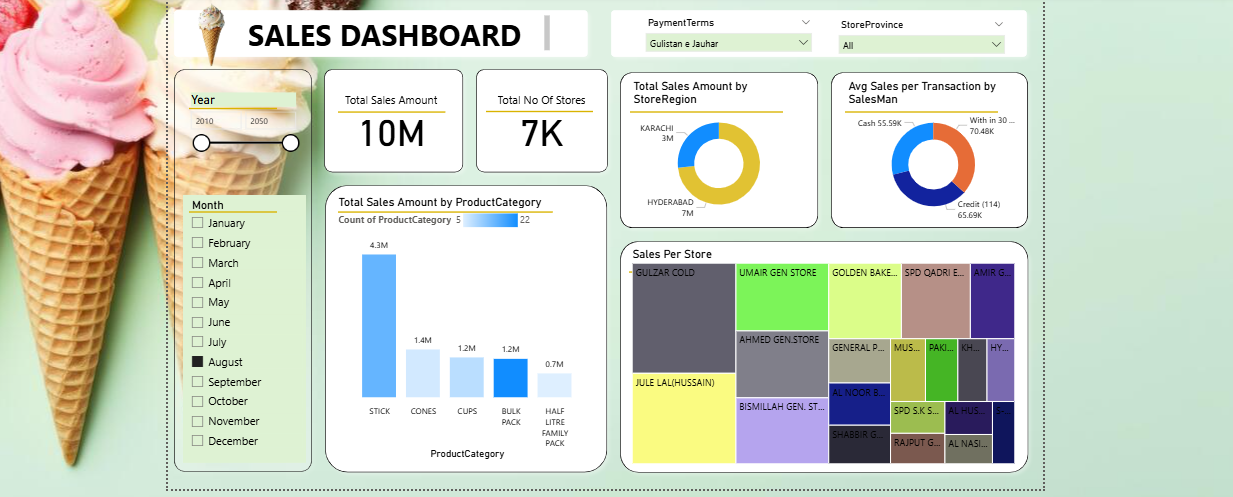

Layout of this report page (visuals, bound fields, positions):
{"tool":"powerbi","page":{"name":"Store","canvas":[1280,720],"ordinal":2},"visuals":[{"type":"shape","box":[0,10.8,623.1,86.2],"z":0},{"type":"shape","box":[640,10.8,626.2,86.2],"z":1000},{"type":"shape","box":[311.7,402.4,219.5,174.1],"z":2000},{"type":"shape","box":[221.5,266.2,430.8,438.5],"z":3000},{"type":"shape","box":[0,96.6,219.5,607.3],"z":4000},{"type":"shape","box":[220,96.9,221.5,169.2],"z":5000},{"type":"shape","box":[441.5,96.9,210.8,169.2],"z":6000},{"type":"shape","box":[652.3,347.7,615.4,356.9],"z":7000},{"type":"columnChart","fields":{"Category":["dim_product.ProductCategory"],"Y":["fact_sales.Total Sales Amount"]},"box":[244.6,289.2,378.5,392.3],"z":10000},{"type":"shape","box":[652.3,101.5,307.7,246.2],"z":11000},{"type":"shape","box":[961.5,101.5,306.2,246.2],"z":12000},{"type":"slicer","fields":{"Values":["dim_date.date.Variation.Date Hierarchy.Month"]},"box":[21.5,289.2,180,392.3],"z":13000},{"type":"slicer","fields":{"Values":["dim_date.date.Variation.Date Hierarchy.Year"]},"box":[20.5,134.6,180,153.7],"z":14000},{"type":"donutChart","fields":{"Category":["dim_store.StoreRegion"],"Y":["fact_sales.Total Sales Amount"]},"box":[675.4,120,260,209.2],"z":15000},{"type":"donutChart","fields":{"Y":["fact_sales.Avg Sales per Transaction"],"Category":["dim_dealer.SalesMan"]},"box":[990.8,120,258.5,212.3],"z":16000},{"type":"textbox","box":[112.7,22,450.7,64.4],"z":18000},{"type":"shape","box":[30.7,288.3,128.8,52.7],"z":19000},{"type":"shape","box":[30.7,142,128.8,42.4],"z":20000},{"type":"shape","box":[248.6,288.6,314.3,52.9],"z":21000},{"type":"shape","box":[674.3,375.7,314.3,52.9],"z":22000},{"type":"shape","box":[248.6,141.4,157.1,52.9],"z":23000},{"type":"shape","box":[465.7,141.4,138.6,52.9],"z":24000},{"type":"shape","box":[676.1,142,223.9,52.7],"z":25000},{"type":"shape","box":[990.7,142,223.9,52.7],"z":26000},{"type":"slicer","fields":{"Values":["Ikp_payment.PaymentTerms"]},"box":[689.3,24.9,263.4,55.6],"z":27000},{"type":"slicer","fields":{"Values":["dim_store.StoreProvince"]},"box":[971.7,27.8,263.4,55.6],"z":28000},{"type":"image","box":[0,0,127.3,109.8],"z":29000},{"type":"cardVisual","fields":{"Data":["fact_sales.Total Sales Amount"]},"box":[234.1,118.5,185.9,131.7],"z":29001},{"type":"cardVisual","fields":{"Data":["dim_store.Total No Of Stores"]},"box":[453.8,118.5,186.2,132.3],"z":29002},{"type":"shape","box":[465.4,140.5,156.6,54.1],"z":29003},{"type":"treemap","title":"Sales Per Store","fields":{"Values":["Sum(fact_sales.SalesAmount)"],"Group":["dim_store.StoreZone"]},"box":[674.6,365.9,569.3,322],"z":29004}]}

Visuals, with their boxes on the page's 1280x720 design canvas (x1, y1, x2, y2). These are canvas units, not pixel positions in the 1233x497 screenshot, which may show the page scaled, cropped or inside an application window:
shape: [0, 11, 623, 97]
shape: [640, 11, 1266, 97]
shape: [312, 402, 531, 576]
shape: [222, 266, 652, 705]
shape: [0, 97, 220, 704]
shape: [220, 97, 442, 266]
shape: [442, 97, 652, 266]
shape: [652, 348, 1268, 705]
columnChart - dim_product.ProductCategory x fact_sales.Total Sales Amount: [245, 289, 623, 682]
shape: [652, 102, 960, 348]
shape: [962, 102, 1268, 348]
slicer - dim_date.date.Variation.Date Hierarchy.Month: [22, 289, 202, 682]
slicer - dim_date.date.Variation.Date Hierarchy.Year: [20, 135, 200, 288]
donutChart - dim_store.StoreRegion x fact_sales.Total Sales Amount: [675, 120, 935, 329]
donutChart - fact_sales.Avg Sales per Transaction x dim_dealer.SalesMan: [991, 120, 1249, 332]
textbox: [113, 22, 563, 86]
shape: [31, 288, 160, 341]
shape: [31, 142, 160, 184]
shape: [249, 289, 563, 342]
shape: [674, 376, 989, 429]
shape: [249, 141, 406, 194]
shape: [466, 141, 604, 194]
shape: [676, 142, 900, 195]
shape: [991, 142, 1215, 195]
slicer - Ikp_payment.PaymentTerms: [689, 25, 953, 80]
slicer - dim_store.StoreProvince: [972, 28, 1235, 83]
image: [0, 0, 127, 110]
cardVisual - fact_sales.Total Sales Amount: [234, 118, 420, 250]
cardVisual - dim_store.Total No Of Stores: [454, 118, 640, 251]
shape: [465, 140, 622, 195]
"Sales Per Store" treemap: [675, 366, 1244, 688]
